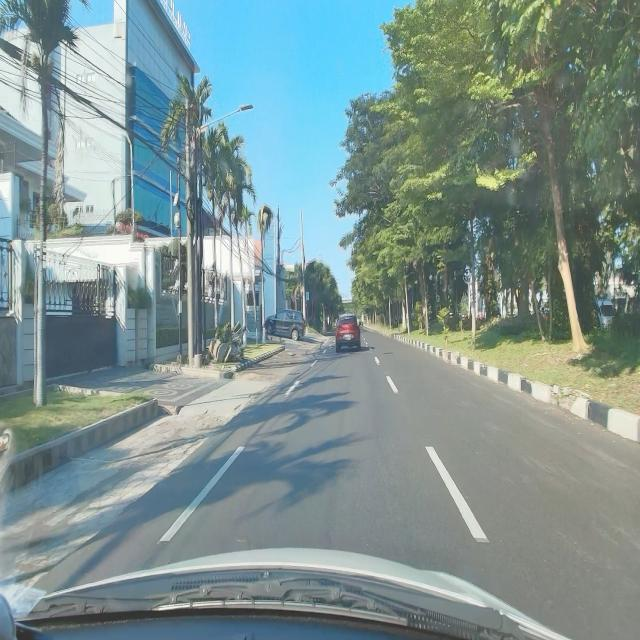car: (335, 313, 362, 355)
